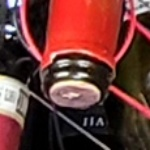bottle: (26, 36, 126, 128)
